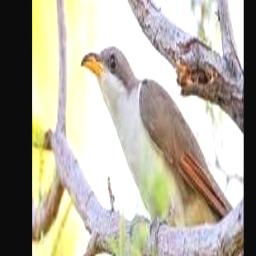Cuckoo: (81, 47, 235, 246)
